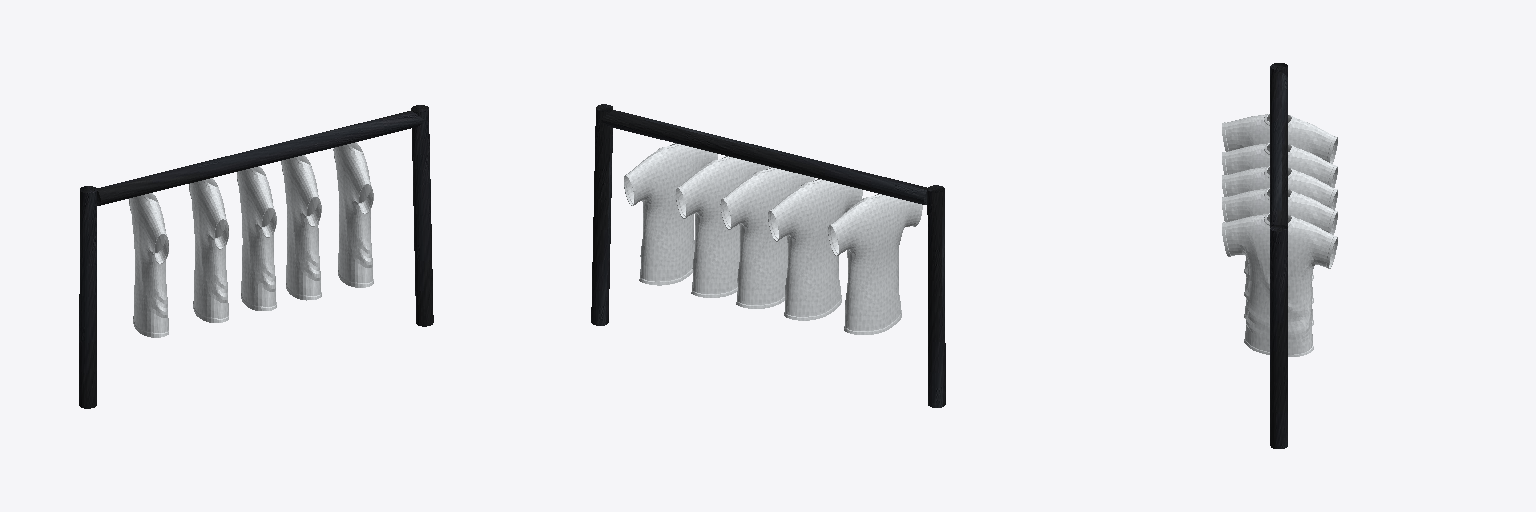
3 views of the same model, side by side, from view 1: azimuth 30°, elevation 25°; view 2: azimuth 150°, elevation 25°; view 3: azimuth 270°, elevation 25° (orthographic).
Parts seen in each view (by area): view 1: pCylinder1, Tshirt1, Tshirt, Tshirt_obj:Tshirt, Tshirt2, Tshirt3, pCylinder2, pCylinder3; view 2: Tshirt3, Tshirt2, Tshirt1, Tshirt_obj:Tshirt, Tshirt, pCylinder1, pCylinder2, pCylinder3; view 3: Tshirt1, pCylinder3, Tshirt3, pCylinder1, Tshirt, Tshirt2, Tshirt_obj:Tshirt.
Boxes of the visible parts, <box> form: pCylinder1: <box>97,110,425,205</box>; Tshirt1: <box>333,142,373,287</box>; Tshirt: <box>281,155,321,300</box>; Tshirt_obj:Tshirt: <box>237,166,276,310</box>; Tshirt2: <box>189,178,228,322</box>; Tshirt3: <box>129,193,168,337</box>; pCylinder2: <box>79,186,96,408</box>; pCylinder3: <box>411,105,433,326</box>; Tshirt3: <box>828,194,922,334</box>; Tshirt2: <box>768,179,862,320</box>; Tshirt1: <box>624,143,717,285</box>; Tshirt_obj:Tshirt: <box>720,167,814,308</box>; Tshirt: <box>676,156,769,297</box>; pCylinder1: <box>599,110,927,204</box>; pCylinder2: <box>927,185,945,407</box>; pCylinder3: <box>591,104,612,325</box>; Tshirt1: <box>1222,213,1337,356</box>; pCylinder3: <box>1270,225,1287,448</box>; Tshirt3: <box>1222,114,1337,163</box>; pCylinder1: <box>1270,72,1287,227</box>; Tshirt: <box>1222,188,1337,325</box>; Tshirt2: <box>1222,143,1337,280</box>; Tshirt_obj:Tshirt: <box>1222,166,1337,303</box>.
Bounding box in the file's own units: 18.9 × 11.06 × 5.42.
Materials: 2 (2 with a texture image).